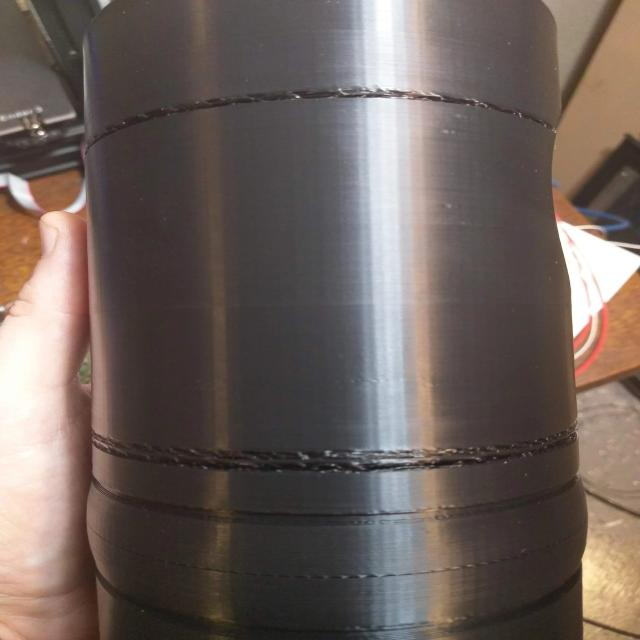Warping: (87, 80, 576, 138), (90, 416, 577, 472)
